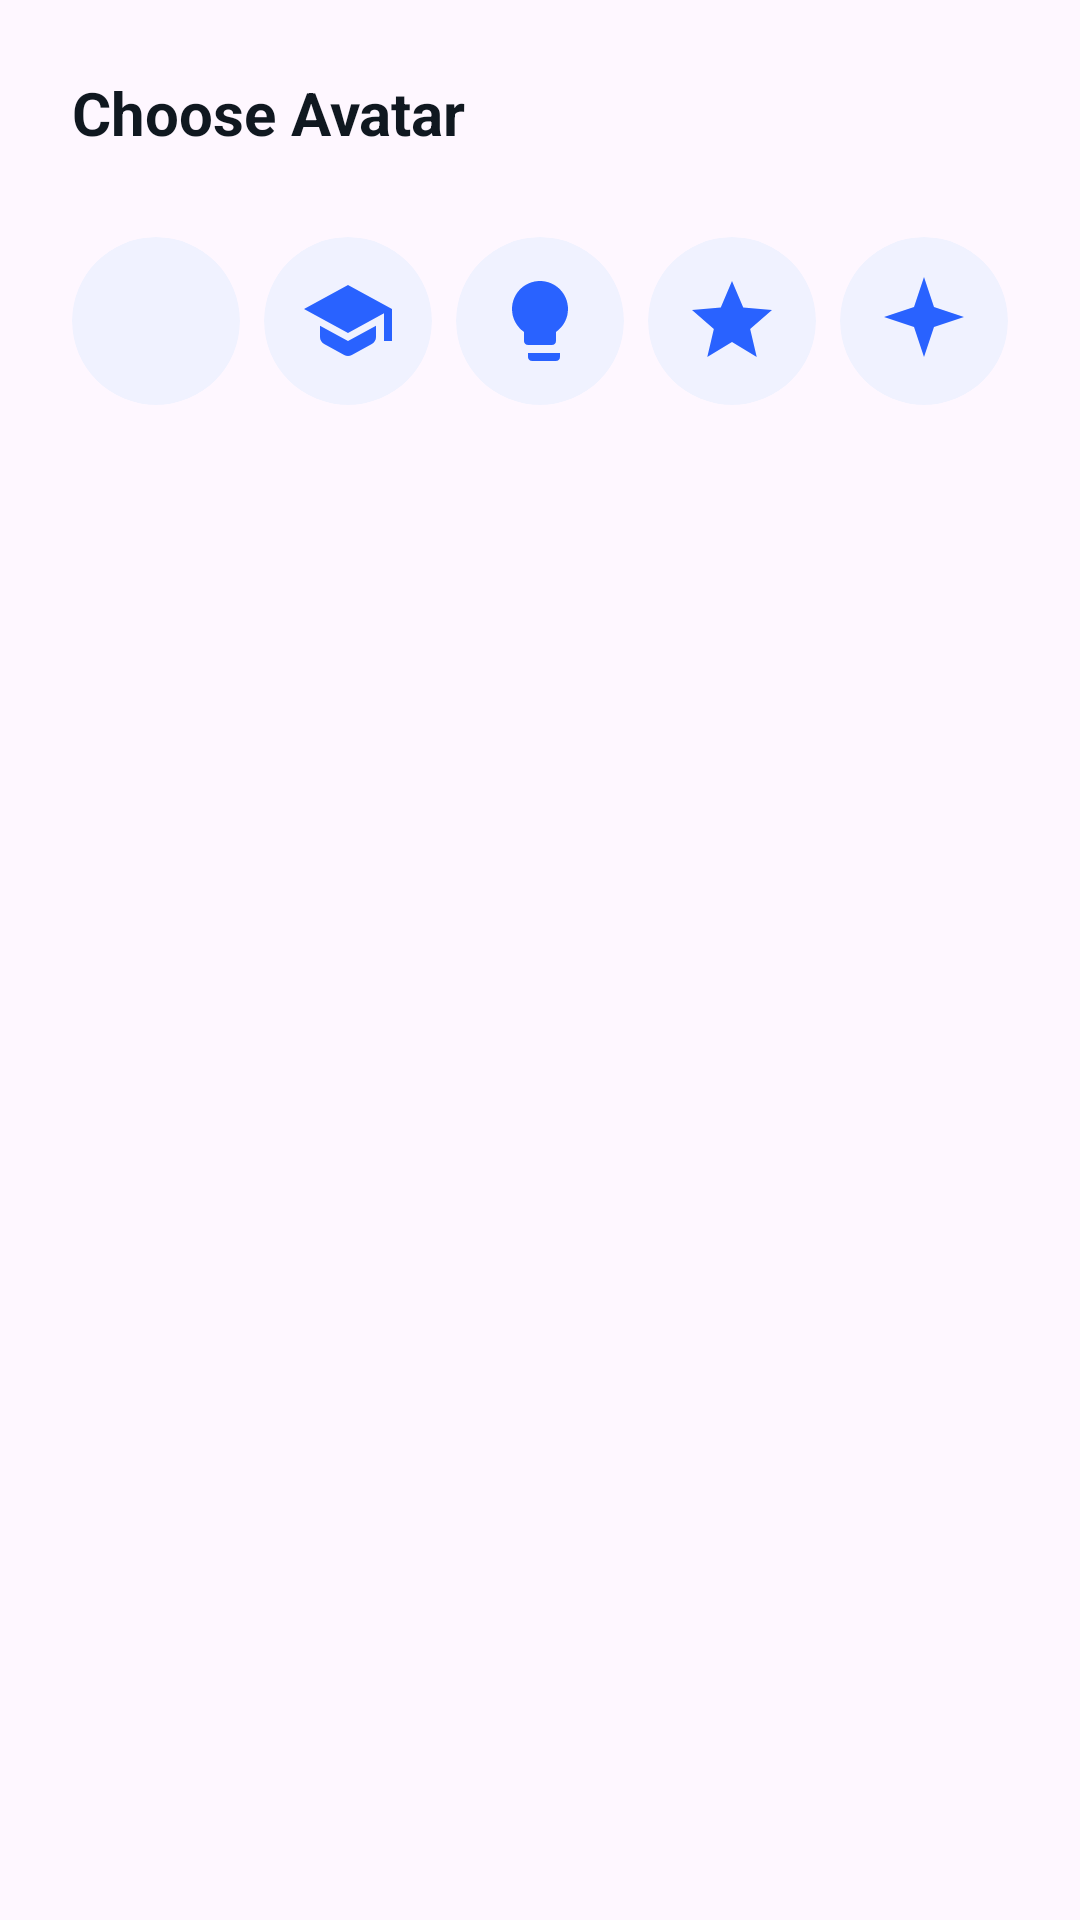

Screen size 1080 x 1920. Icon name, then its center in pixels as (x,y):
bulb: (540,321)
school: (348,320)
sparkle: (924,321)
star: (732,321)
